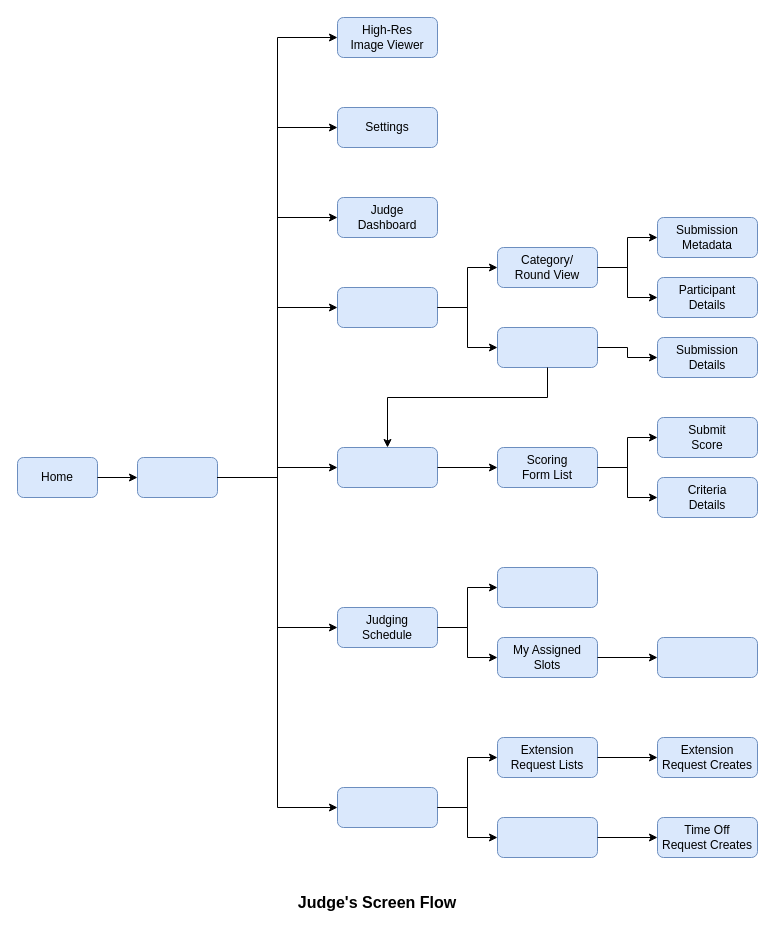
The diagram is 775 pixels wide and 935 high, and some of its shapes have lost their labels. The box of each missing label's shape, as (x1, y1, x2, y2) in pixels:
Assigned Photo List: (496, 326, 598, 368)
Assigned Submissions: (336, 286, 438, 328)
Judging Calendar: (496, 566, 598, 608)
Login: (136, 456, 218, 498)
Request Management: (336, 786, 438, 828)
Scoring & Evaluation: (336, 446, 438, 488)
Time Off Request Lists: (496, 816, 598, 858)
Work Slot View: (656, 636, 758, 678)
